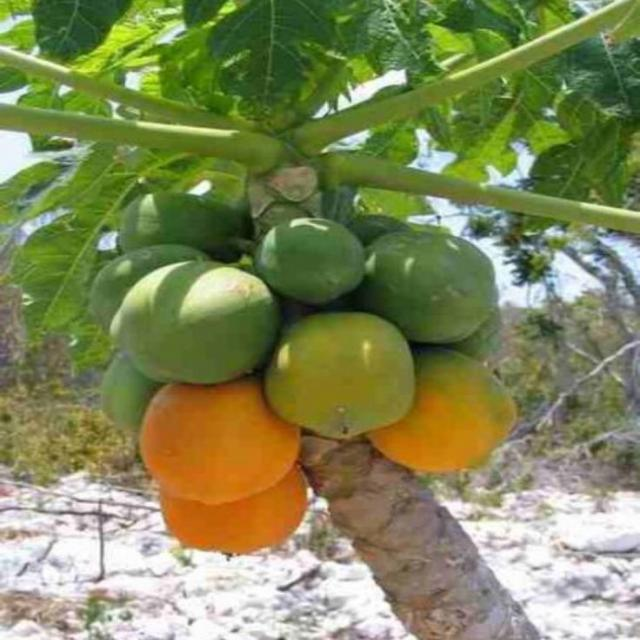Pepaya rippen: (380, 349, 534, 482), (131, 385, 282, 504), (273, 317, 398, 448), (156, 480, 308, 556)
Pepaya unrippen: (108, 265, 284, 372), (369, 235, 511, 337)
